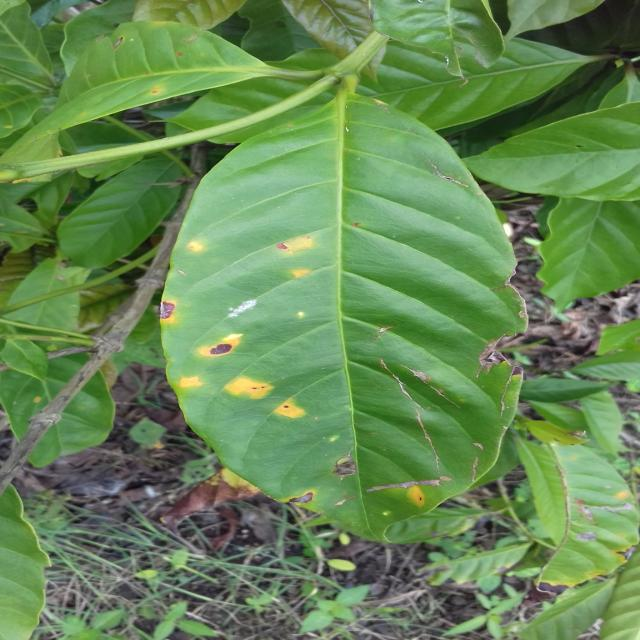Enfermedad-Roya: (164, 99, 521, 546)
